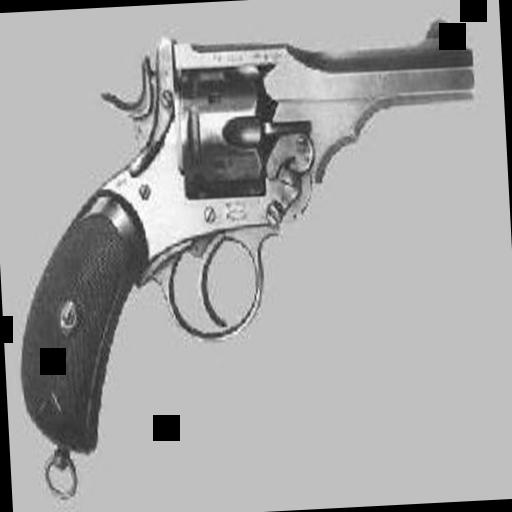Handgun: (2, 12, 492, 452)
